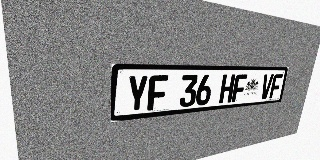3: (179, 75, 198, 108)
6: (195, 75, 213, 106)
F: (147, 75, 168, 111), (231, 74, 247, 102), (269, 74, 283, 98)
H: (219, 74, 235, 103)
V: (259, 74, 274, 99)
Y: (126, 75, 149, 113)
